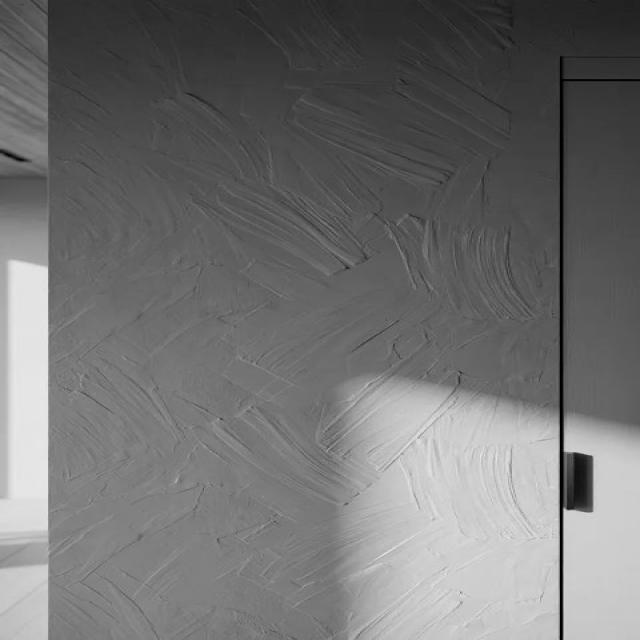trowels marks: (49, 0, 563, 640)
